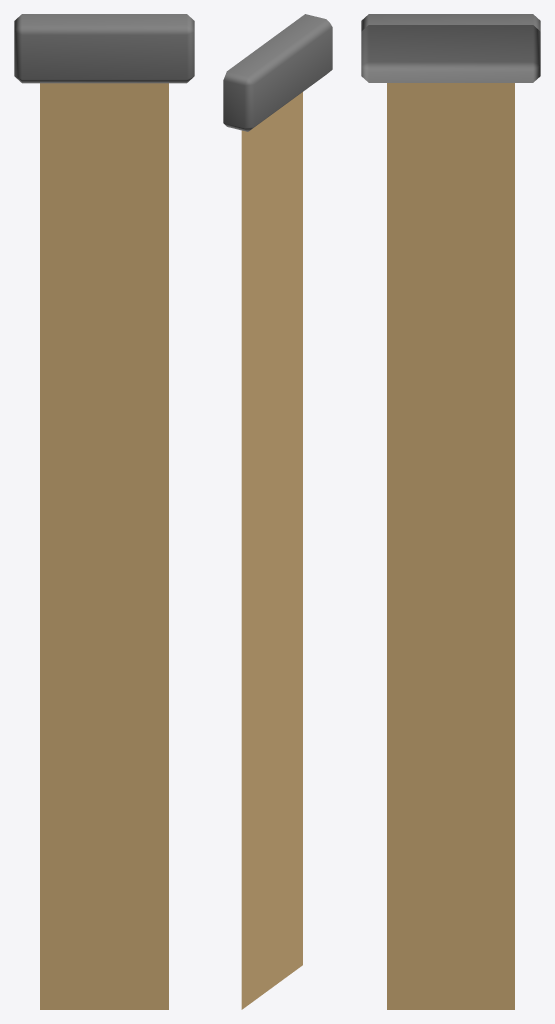
The model's file is SM_WallEndB_8_LOD0.fbx.
3 renders of one model, left to right at view 1: azimuth 90°, elevation 25°; view 2: azimuth 150°, elevation 25°; view 3: azimuth 270°, elevation 25°, orthographic. The views are drawn at different scales.
Visible parts, largest first — view 1: SM_WallEndB_8_LOD0; view 2: SM_WallEndB_8_LOD0; view 3: SM_WallEndB_8_LOD0.
Boxes of the visible parts, <box> form: SM_WallEndB_8_LOD0: <box>14,14,194,1009</box>; SM_WallEndB_8_LOD0: <box>223,14,332,1009</box>; SM_WallEndB_8_LOD0: <box>361,14,540,1009</box>.
Size of the model in its own units: 0.26 by 8.5 by 1.4.
